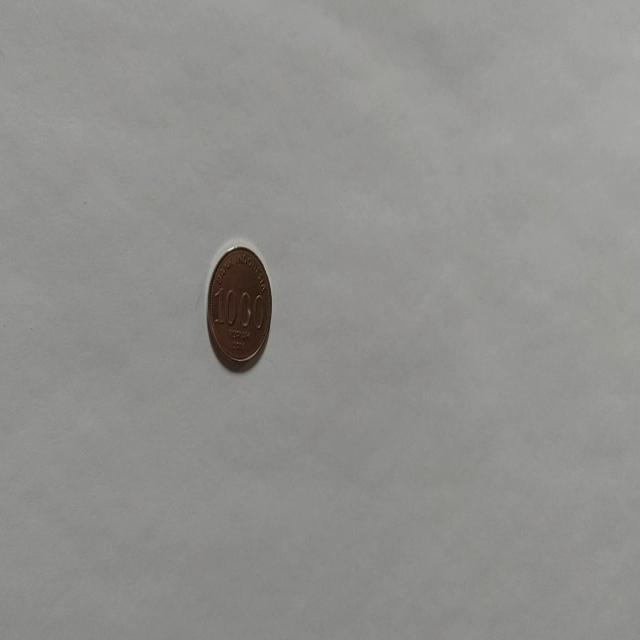seribu rupiah koin: (205, 240, 273, 372)
